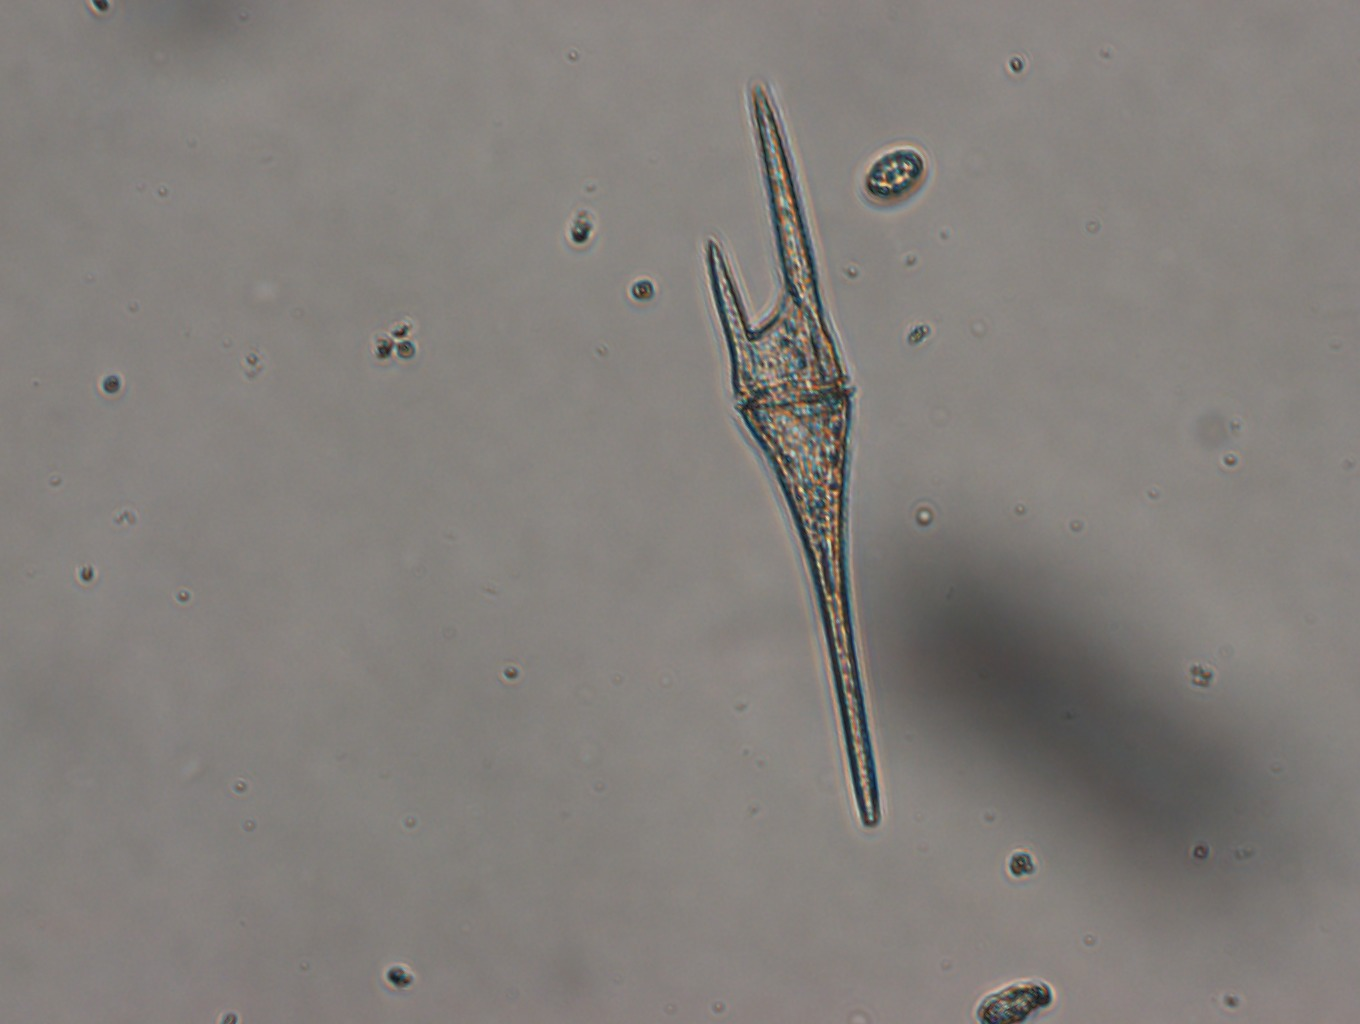ceratium furca: (697, 75, 885, 836)
